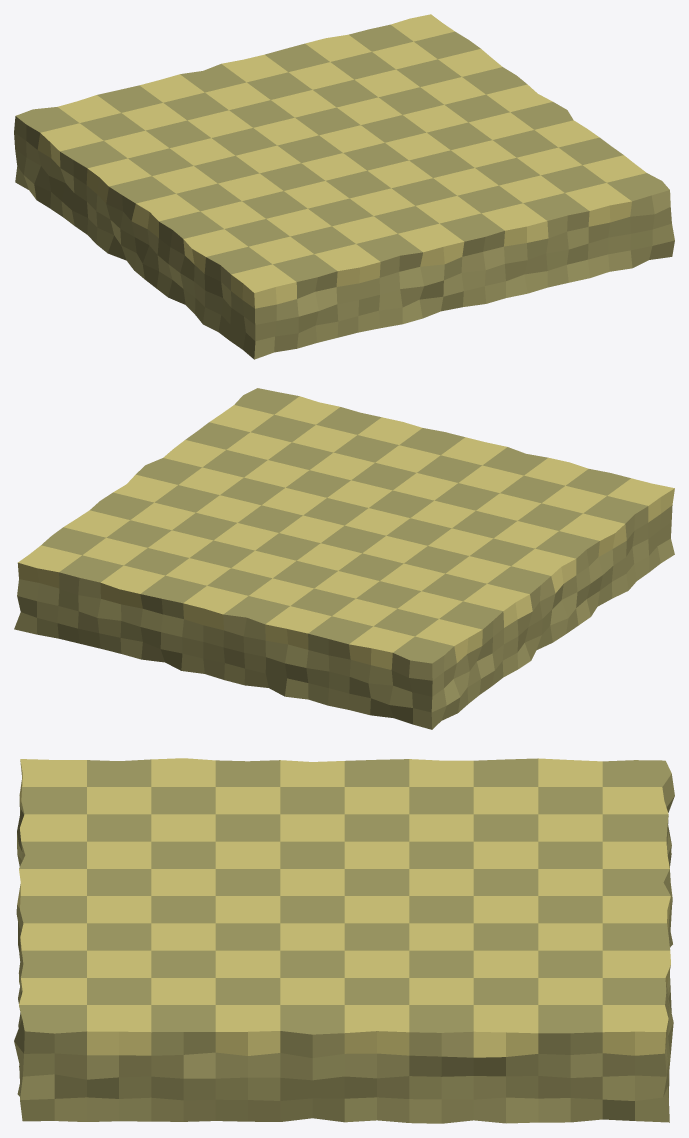
The model's file is Board2.fbx.
3 renders of one model, top to bottom at view 1: azimuth 30°, elevation 25°; view 2: azimuth 150°, elevation 25°; view 3: azimuth 270°, elevation 25°, orthographic. The views are drawn at different scales.
Parts seen in each view (by area): view 1: Board2; view 2: Board2; view 3: Board2.
Boxes of the visible parts, x1,y1,x2,y2 form: Board2: (14,14,674,359); Board2: (14,388,674,729); Board2: (14,758,674,1123).
Bounding box in the file's own units: 1018 × 152 × 1021.
